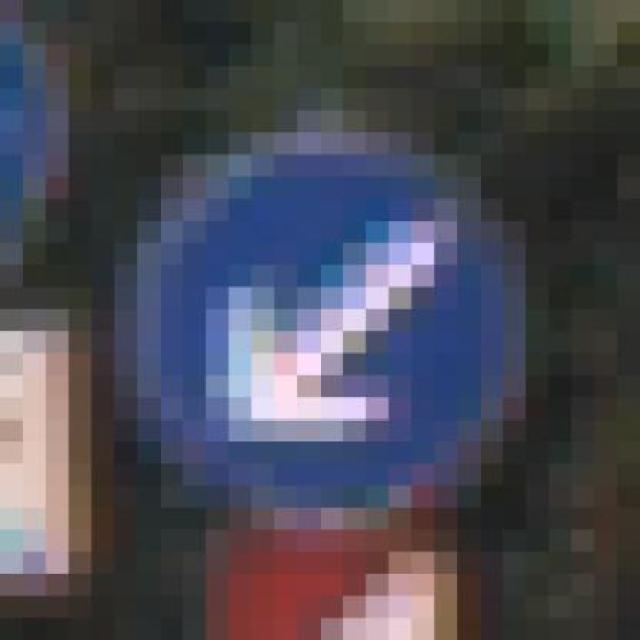Keep-Left: (91, 88, 526, 530)
